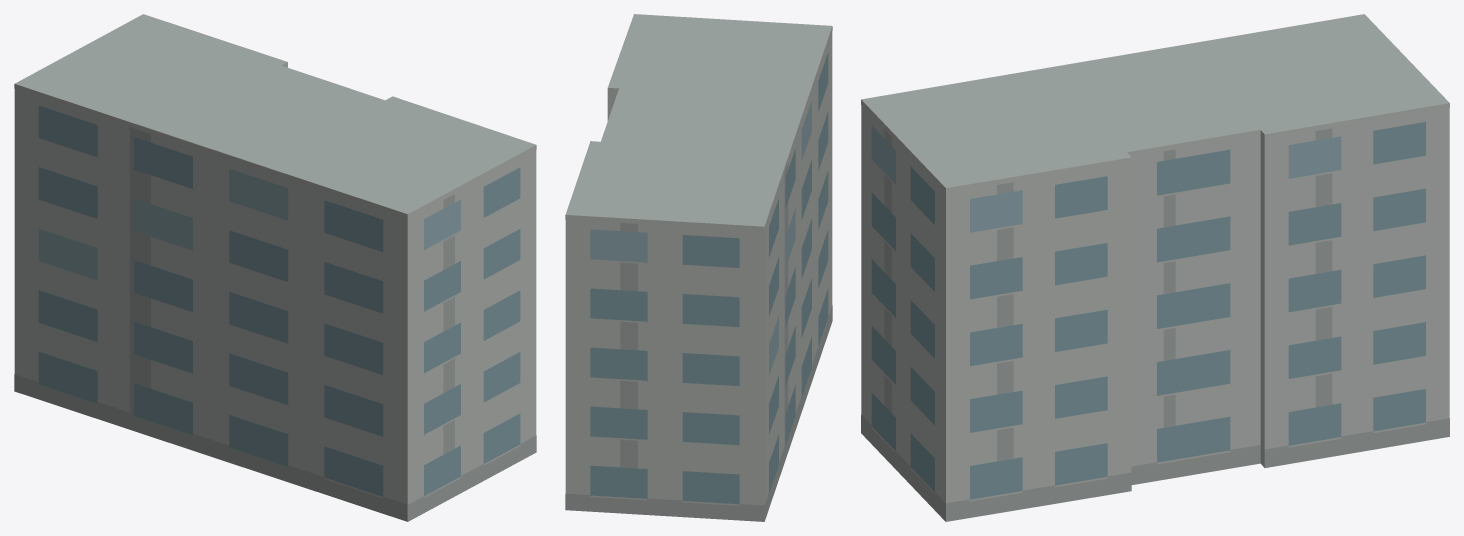
Rendered from survey-upis-33005331.glb.
The picture shows the model from 3 angles, left to right: view 1: azimuth 30°, elevation 25°; view 2: azimuth 150°, elevation 25°; view 3: azimuth 270°, elevation 25°; orthographic projection. The views are drawn at different scales.
Visible parts, largest first — view 1: survey-upis-33005331.tmp; view 2: survey-upis-33005331.tmp; view 3: survey-upis-33005331.tmp.
Part boxes in pixels (x1=…): survey-upis-33005331.tmp: x1=14, y1=14, x2=536, y2=521; survey-upis-33005331.tmp: x1=565, y1=14, x2=832, y2=521; survey-upis-33005331.tmp: x1=861, y1=14, x2=1449, y2=521.
Bounding box in the file's own units: 17.08 × 15.25 × 24.39.
